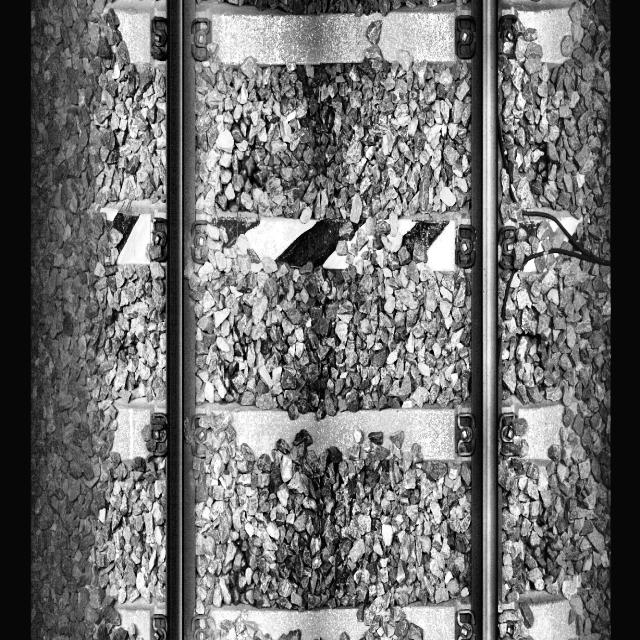Clips: (190, 13, 217, 63), (498, 9, 524, 60), (188, 408, 213, 461), (190, 214, 215, 266), (496, 222, 522, 272), (454, 407, 479, 458), (147, 212, 171, 265), (453, 10, 478, 60), (497, 408, 522, 458), (149, 10, 171, 65), (455, 220, 479, 270), (149, 408, 172, 458), (498, 604, 523, 640), (453, 605, 477, 640), (190, 610, 212, 640), (149, 610, 170, 640)
Sleepers: (94, 193, 589, 284), (100, 394, 595, 474), (97, 0, 593, 72), (101, 597, 588, 640)
